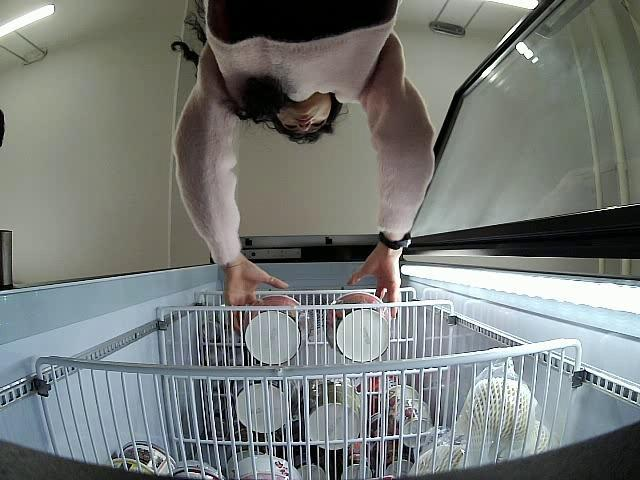01_ShinRamen_L: (323, 293, 392, 363), (242, 295, 308, 366)
